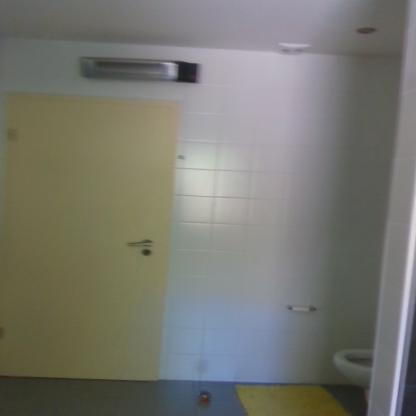door: (12, 99, 164, 380)
hinged: (8, 127, 15, 144), (0, 325, 6, 341)
lever: (125, 238, 156, 246)
